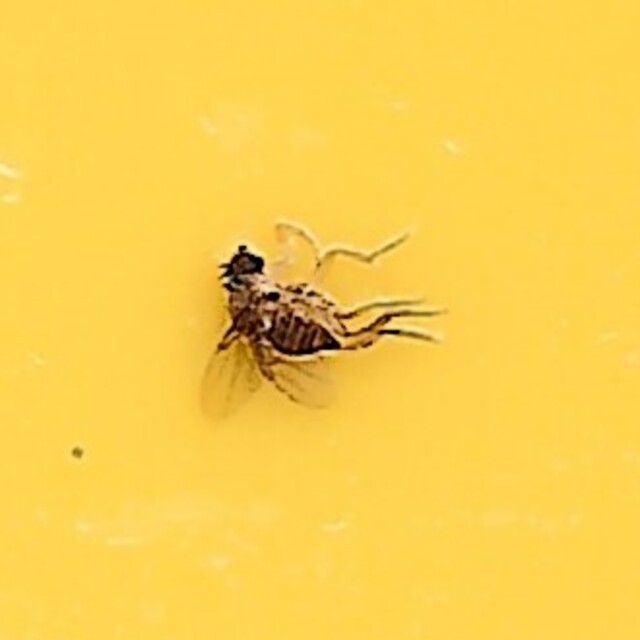Nematocera: (194, 221, 446, 419)
